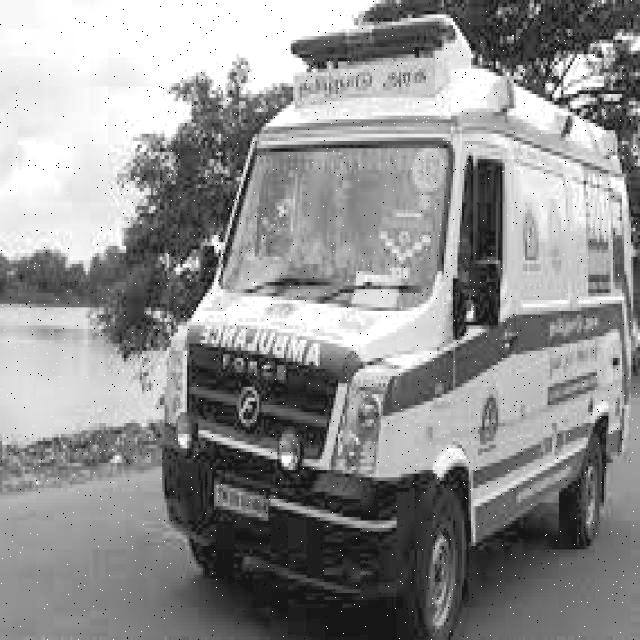LCV: (159, 19, 502, 594)
